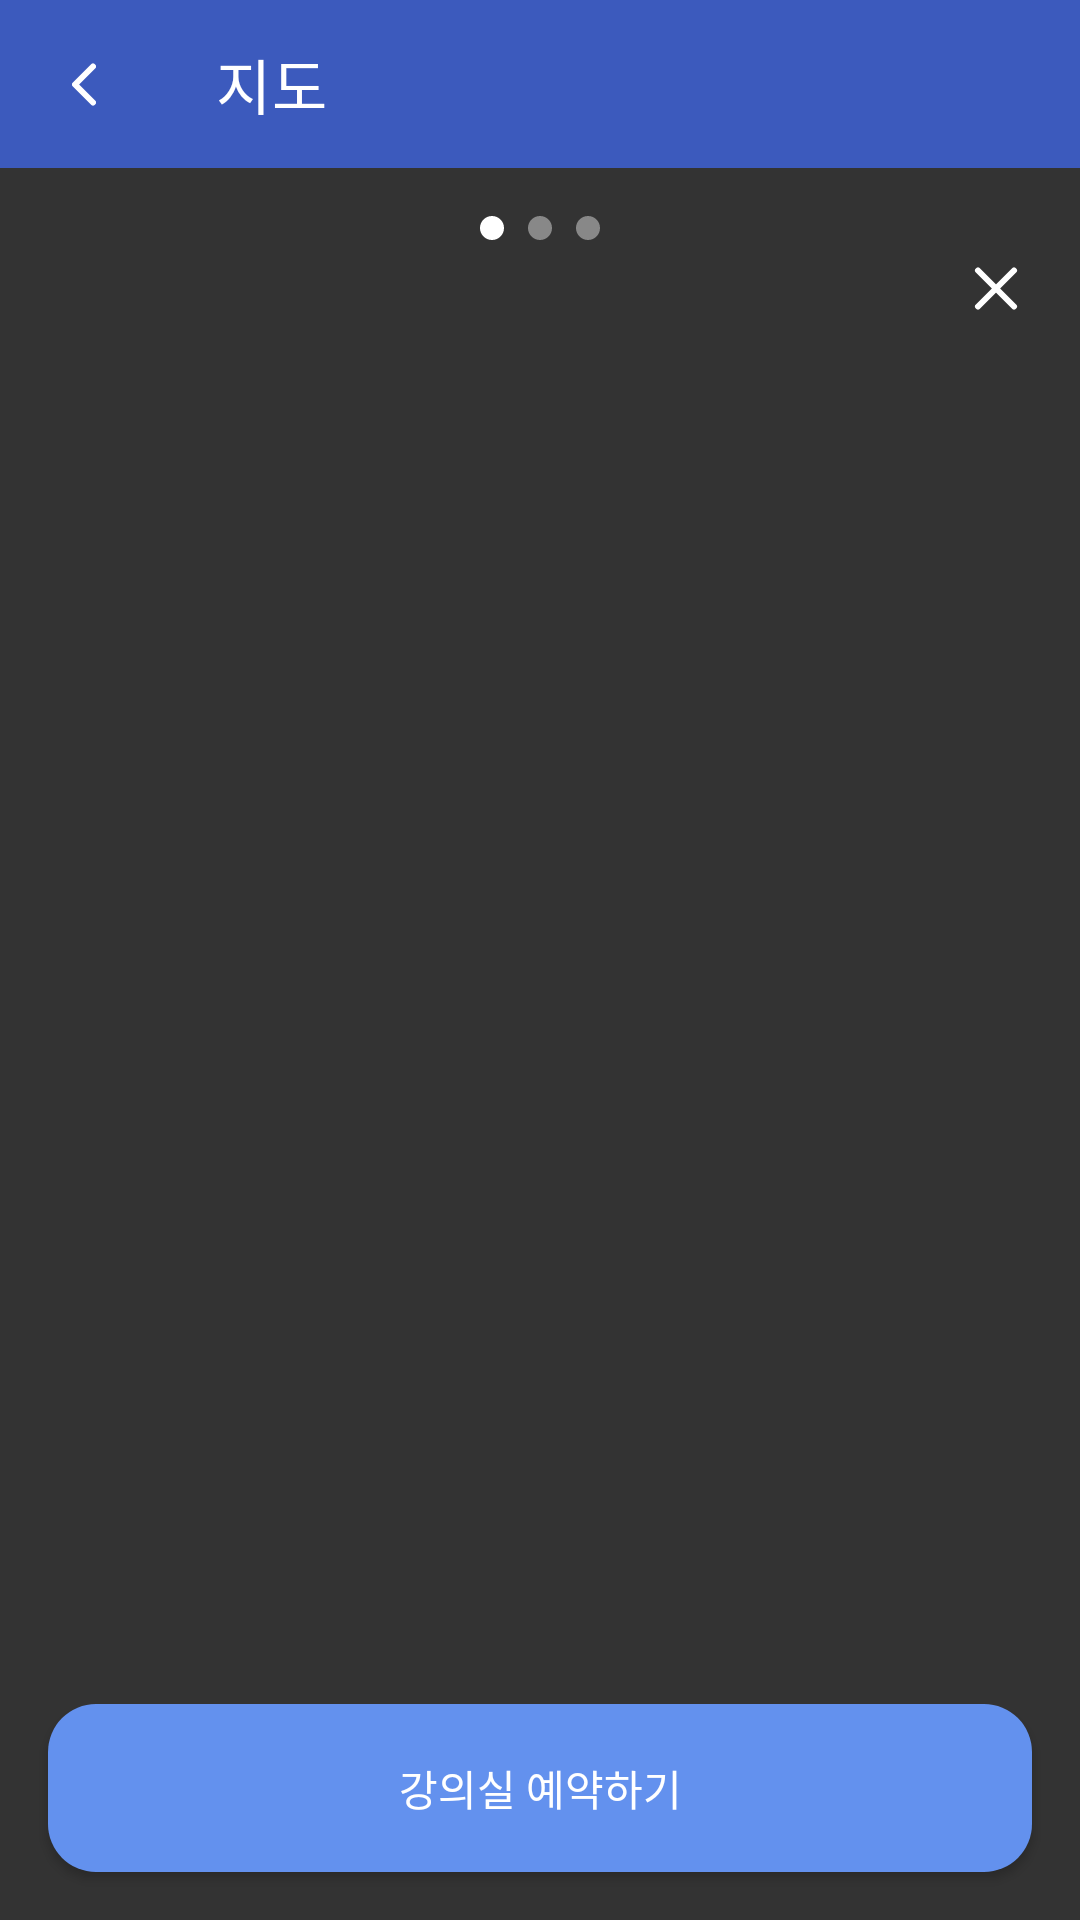

Icons on this 1080×1920 Android screen, each with its box as (x1, y1, x2, y2):
닫기: (974, 267, 1018, 310)
